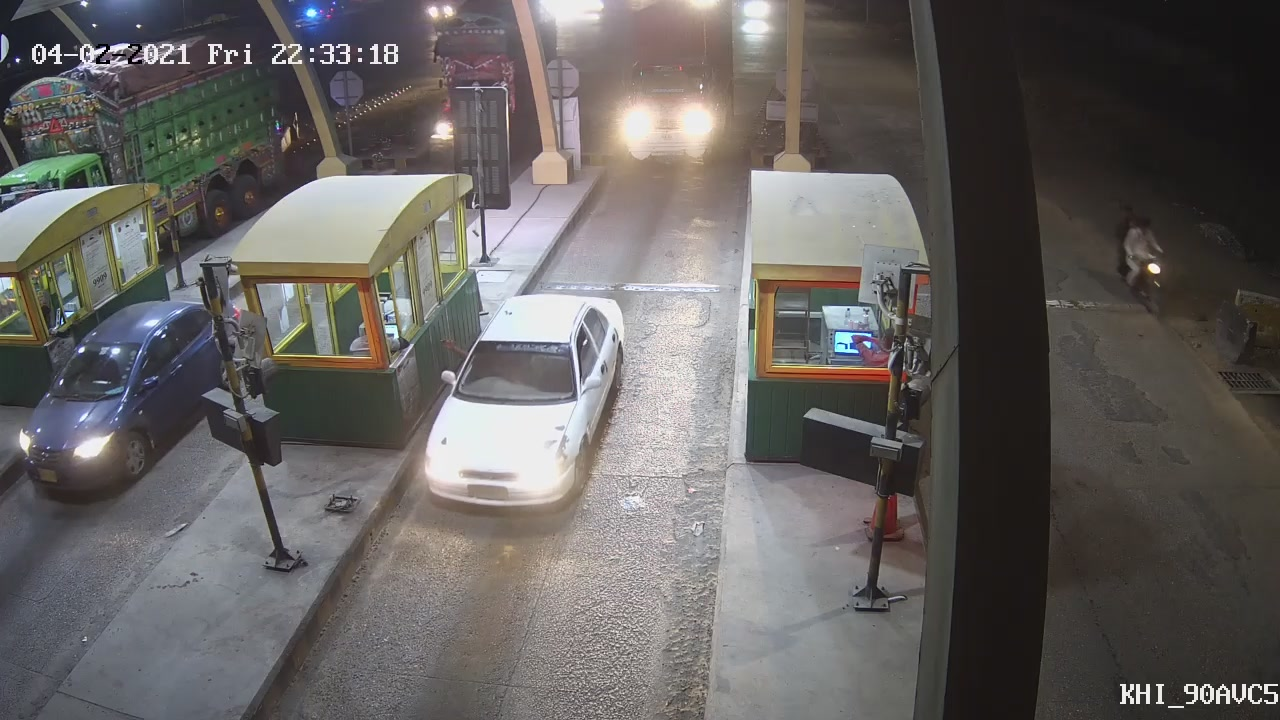F1: (416, 287, 629, 509)
